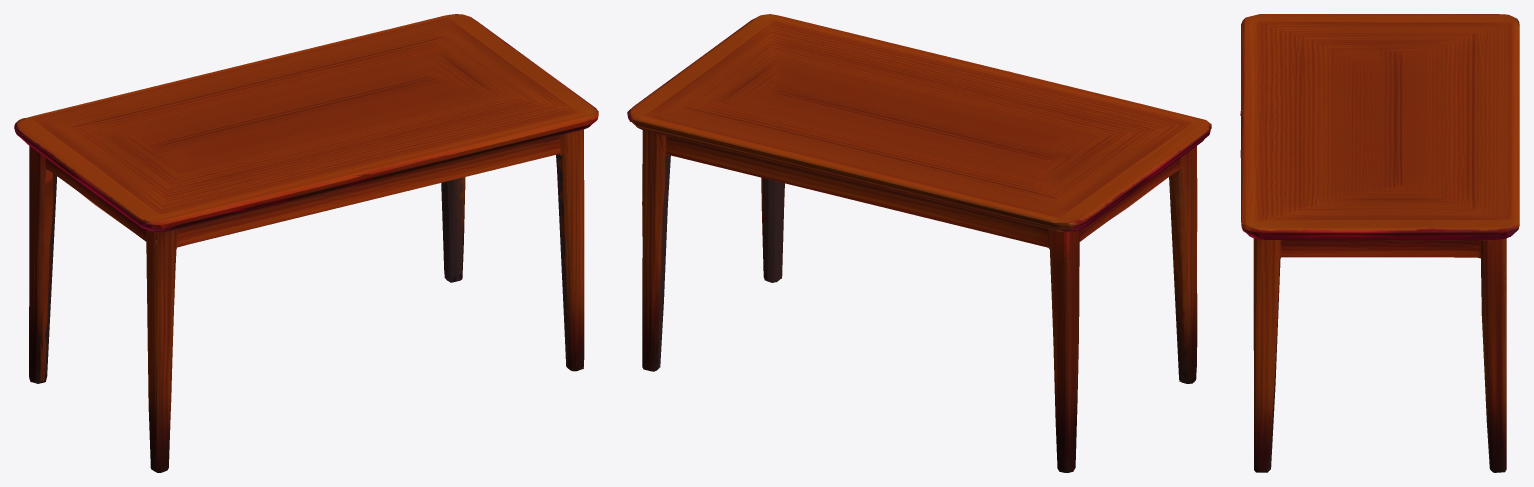
File: desk-hy3d.glb
The picture shows the model from 3 angles, left to right: view 1: azimuth 30°, elevation 25°; view 2: azimuth 150°, elevation 25°; view 3: azimuth 270°, elevation 25°; orthographic projection. The views are drawn at different scales.
Parts seen in each view (by area): view 1: temp_mesh.ply; view 2: temp_mesh.ply; view 3: temp_mesh.ply.
Boxes of the visible parts, x1=… form: temp_mesh.ply: x1=14, y1=14, x2=598, y2=472; temp_mesh.ply: x1=627, y1=14, x2=1211, y2=472; temp_mesh.ply: x1=1240, y1=14, x2=1519, y2=472.
Bounding box in the file's own units: 1.92 × 1.03 × 1.04.
1 material, 1 textured.
